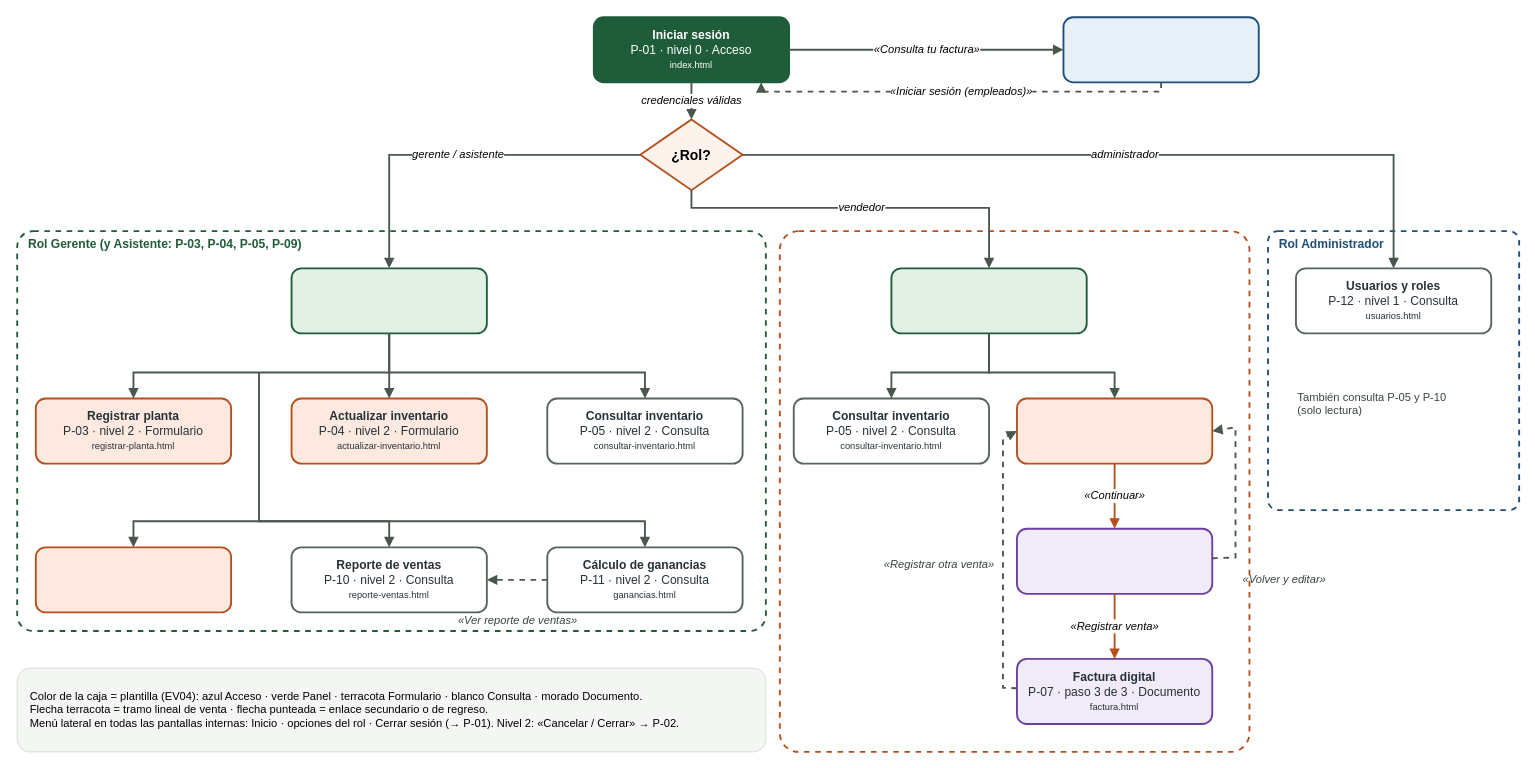
The diagram is 1535 pixels wide and 768 high, and some of its shapes have lost their labels. Here are the shapes that lost their labels. From the top down, the box of each, then its label:
(1062, 16, 1259, 83): Consulta de factura P-08 · pública, sin cuenta · Acceso consulta-factura.html
(290, 267, 487, 334): Inicio · panel gerente P-02 · nivel 1 · Panel inicio.html
(890, 267, 1087, 334): Inicio vendedor P-02 · nivel 1 · Panel inicio-vendedor.html
(1016, 397, 1213, 464): Registrar venta P-06 · paso 1 de 3 · Formulario registrar-venta.html
(778, 230, 1250, 752): Rol Vendedor
(34, 546, 232, 613): Registrar gasto P-09 · nivel 2 · Formulario registrar-gasto.html
(1016, 527, 1213, 594): Confirmar venta P-06b · paso 2 de 3 · Documento confirmar-venta.html
